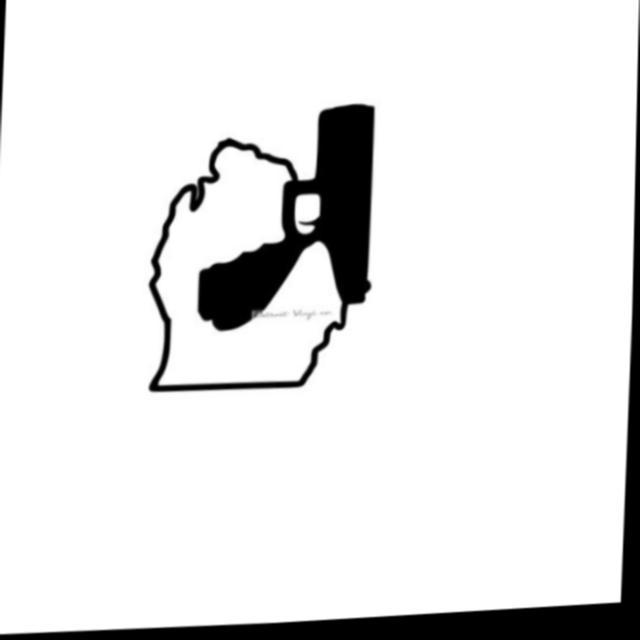weapon: (192, 102, 380, 340)
